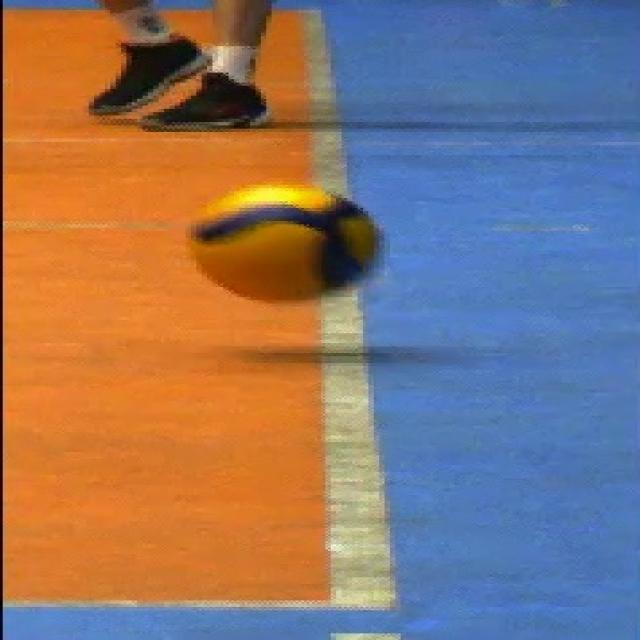Volleyball: (185, 182, 388, 306)
